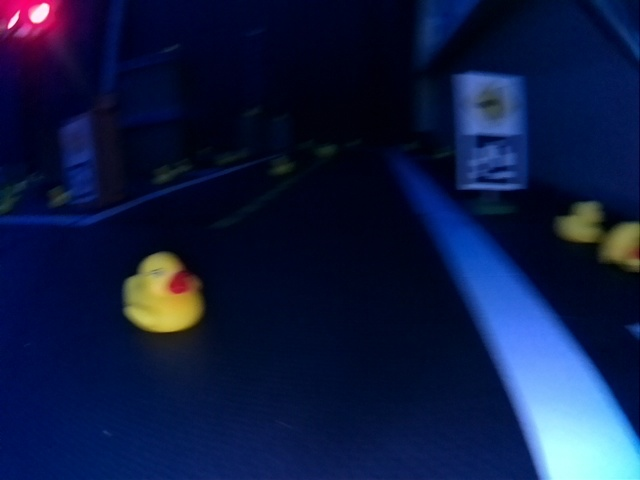Duckie: (125, 258, 204, 330), (559, 195, 601, 241)
Intersection sign: (461, 76, 517, 126)
QR code: (462, 133, 525, 185)
Traffic light: (4, 1, 58, 41)
